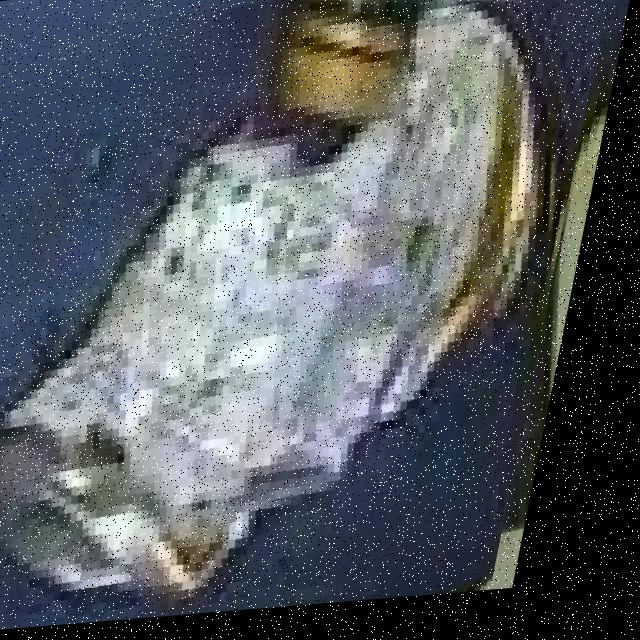can: (0, 0, 567, 619)
